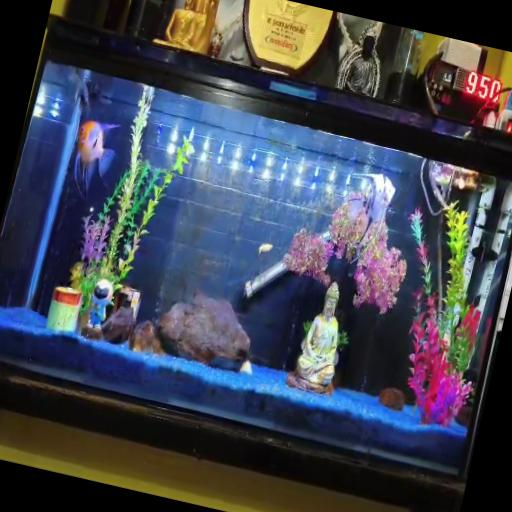Fish: (74, 121, 118, 197), (258, 244, 272, 254)
